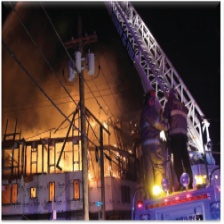smoke: (2, 10, 130, 143)
